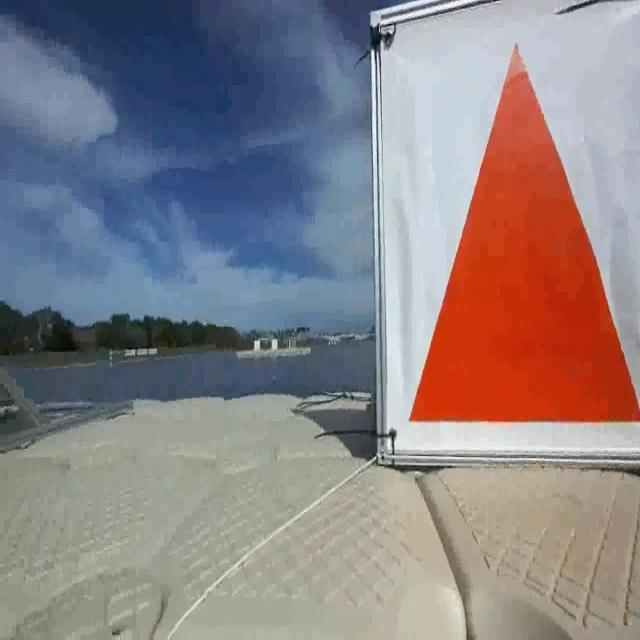red-dot: (371, 5, 640, 457)
